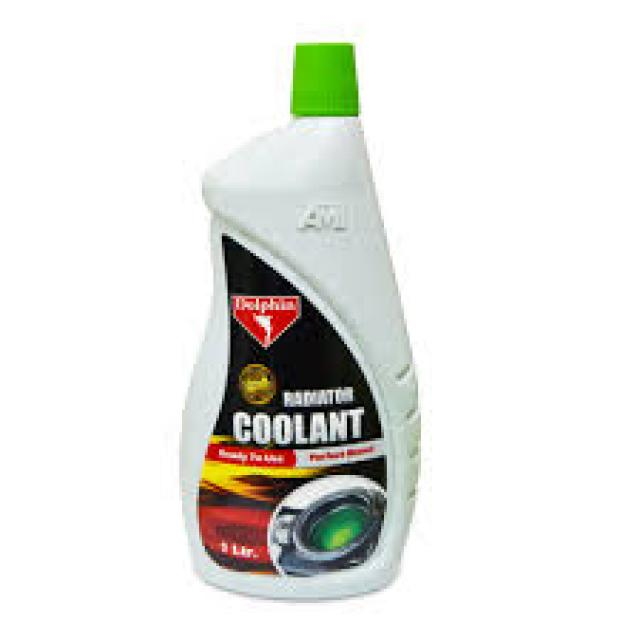coolant: (174, 36, 418, 601)
